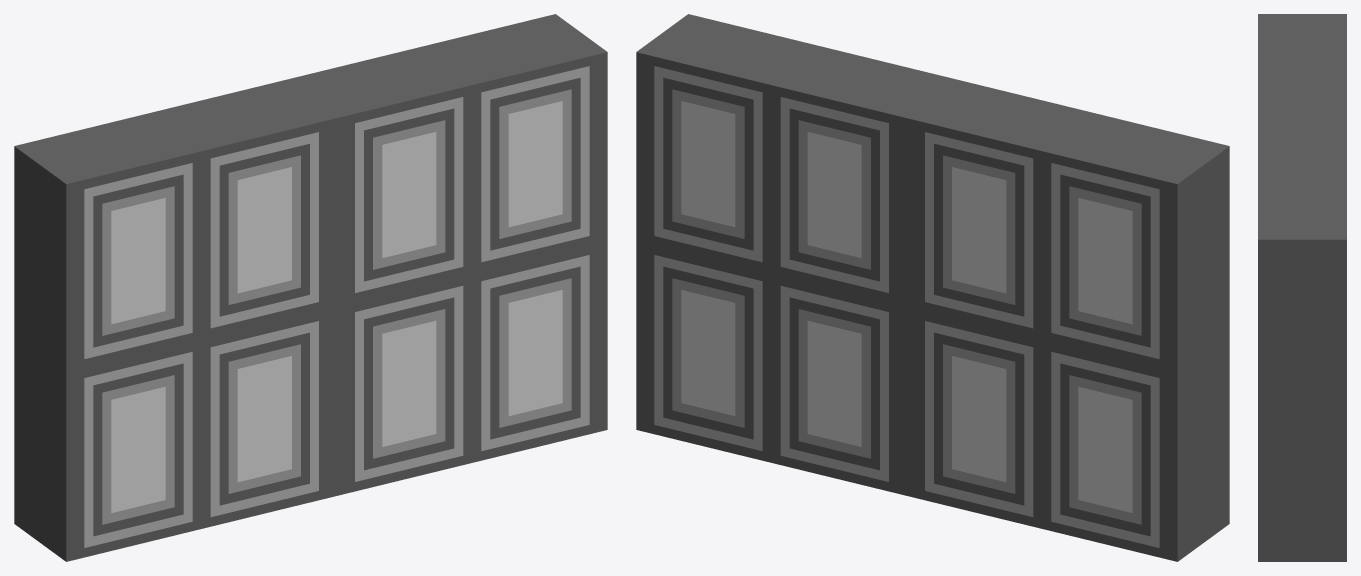
File: Green House Wall 6.obj
3 views of the same model, side by side, from view 1: azimuth 30°, elevation 25°; view 2: azimuth 150°, elevation 25°; view 3: azimuth 270°, elevation 25° (orthographic). The views are drawn at different scales.
Bounding box in the file's own units: 60 × 40 × 10.
1 material, 1 textured.
